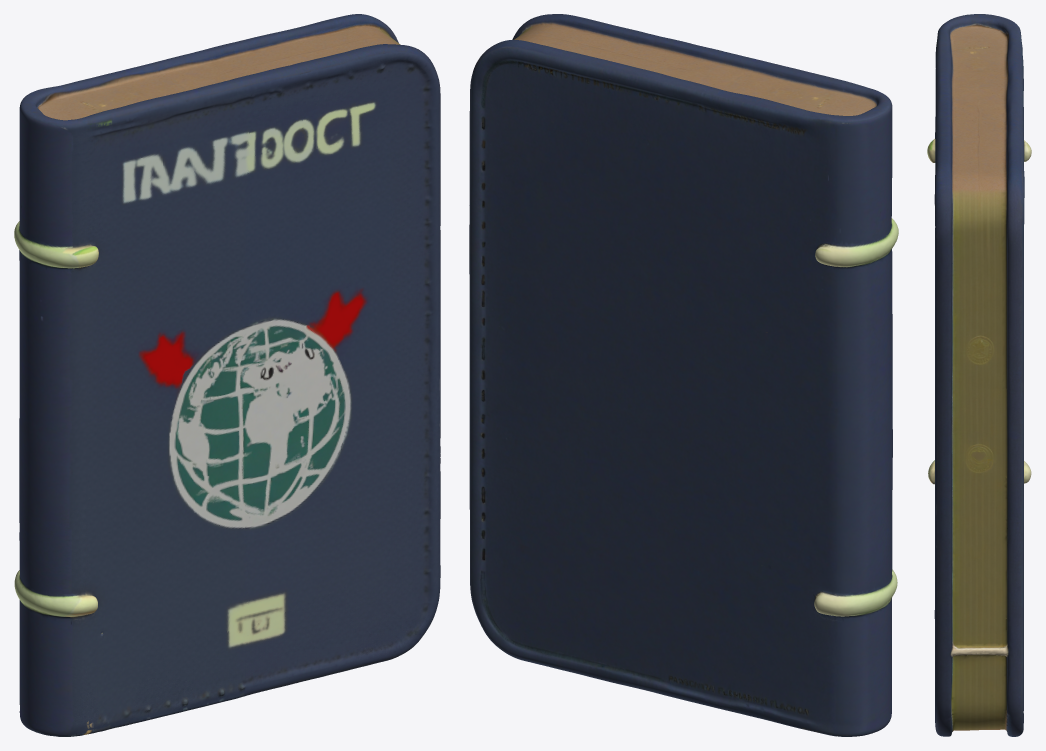
The model's file is passport.glb.
The picture shows the model from 3 angles, left to right: view 1: azimuth 30°, elevation 25°; view 2: azimuth 150°, elevation 25°; view 3: azimuth 270°, elevation 25°; orthographic projection. The views are drawn at different scales.
Bounding box in the file's own units: 44404 × 65605 × 10940.
1 material, 1 textured.
